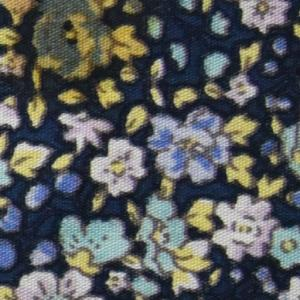Oil Stain: (9, 1, 159, 114)
